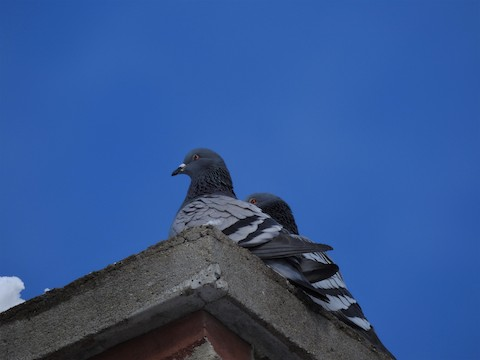pigeon: (162, 148, 338, 308), (228, 191, 378, 338)
